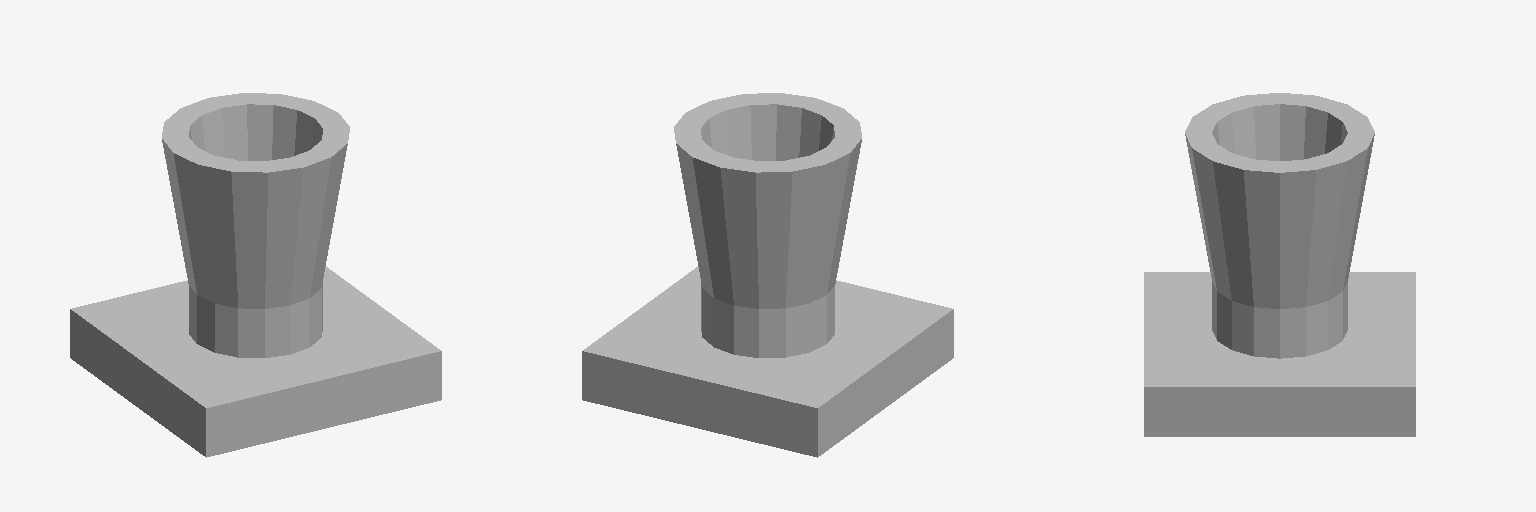
File: planttreepalmbase_new.obj
The picture shows the model from 3 angles: view 1: azimuth 30°, elevation 25°; view 2: azimuth 150°, elevation 25°; view 3: azimuth 270°, elevation 25°; orthographic projection.
Parts seen in each view (by area): view 1: planttreepalmbase.001; view 2: planttreepalmbase.001; view 3: planttreepalmbase.001.
Part boxes in pixels (left/top/right/bottom): planttreepalmbase.001: left=70, top=93, right=441, bottom=457; planttreepalmbase.001: left=582, top=93, right=953, bottom=457; planttreepalmbase.001: left=1144, top=93, right=1415, bottom=436.
Size of the model in its own units: 40 by 40 by 40.